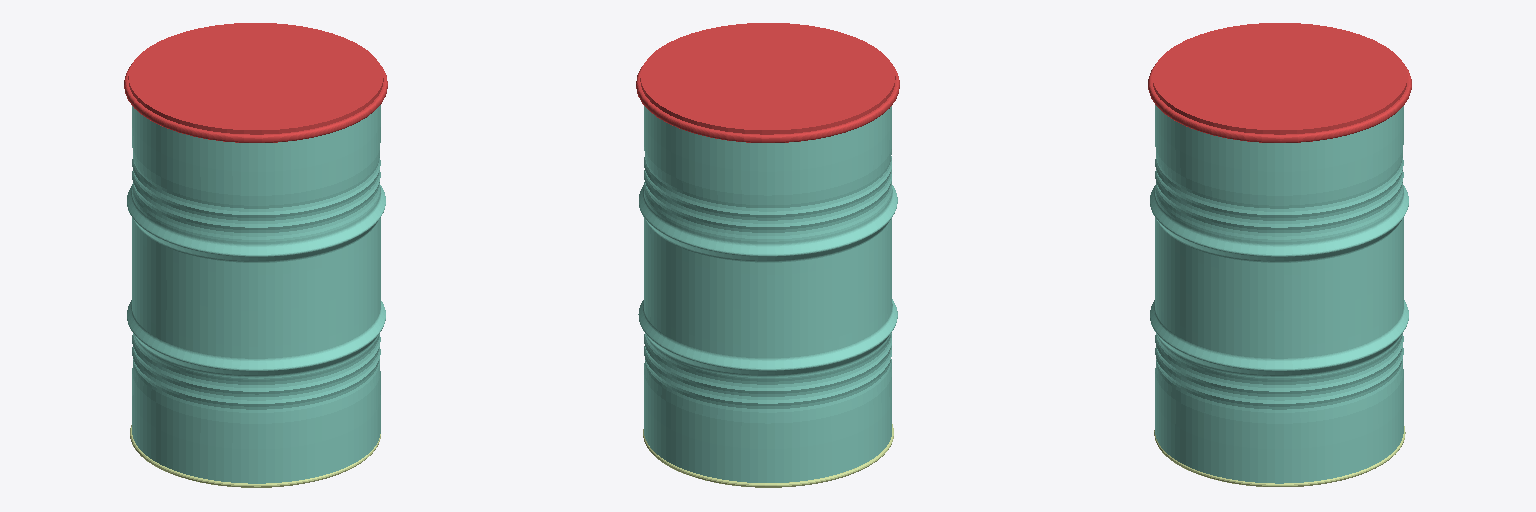
Rendered from BARREL.obj.
3 renders of one model, left to right at view 1: azimuth 30°, elevation 25°; view 2: azimuth 150°, elevation 25°; view 3: azimuth 270°, elevation 25°, orthographic.
Visible parts, largest first — view 1: Cylinder001, Cylinder003, Cylinder002, Torus001, Object; view 2: Cylinder001, Cylinder003, Cylinder002, Torus001, Object; view 3: Cylinder001, Cylinder003, Cylinder002, Object, Torus001.
Boxes of the visible parts, box(x1,y1,x2,y2) form: Cylinder001: box(127, 105, 385, 483); Cylinder003: box(128, 23, 383, 129); Cylinder002: box(124, 63, 387, 142); Torus001: box(130, 425, 380, 487); Object: box(128, 76, 383, 134); Cylinder001: box(638, 106, 897, 482); Cylinder003: box(640, 23, 895, 129); Cylinder002: box(636, 63, 899, 142); Torus001: box(643, 424, 893, 487); Object: box(640, 76, 895, 134); Cylinder001: box(1150, 105, 1408, 483); Cylinder003: box(1153, 23, 1406, 129); Cylinder002: box(1148, 64, 1411, 142); Object: box(1153, 83, 1406, 134); Torus001: box(1154, 426, 1405, 486).
Bounding box in the file's own units: 59.34 × 88.95 × 59.2.